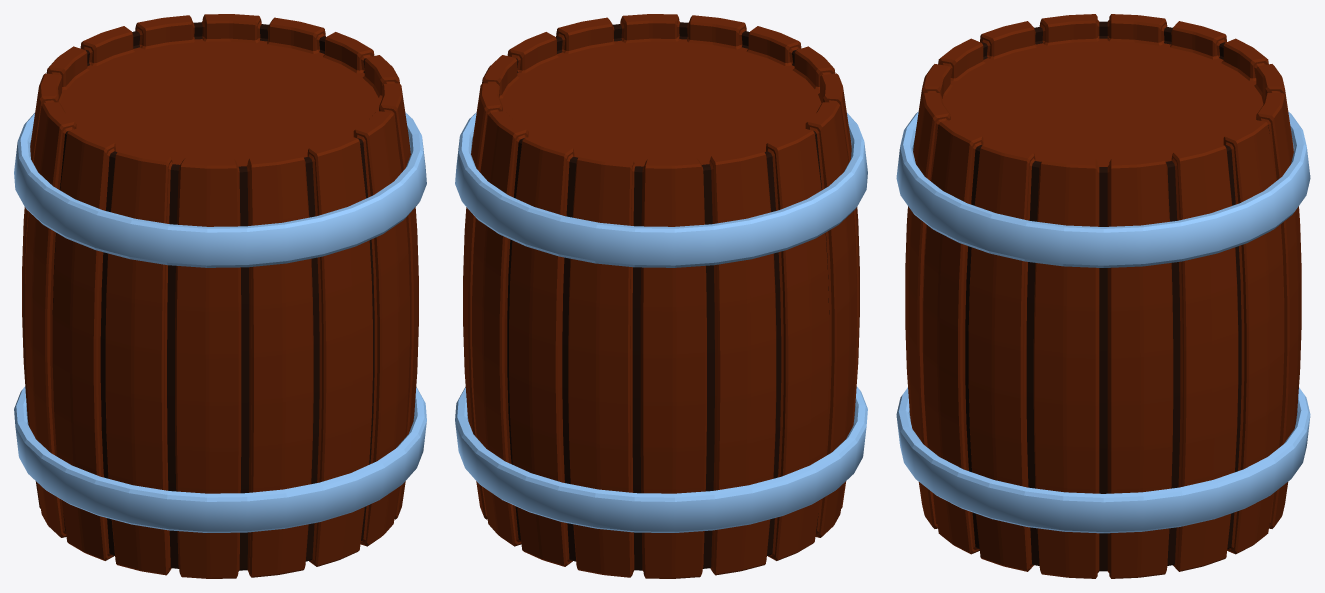
Rendered from barrel.fbx.
The picture shows the model from 3 angles, left to right: view 1: azimuth 30°, elevation 25°; view 2: azimuth 150°, elevation 25°; view 3: azimuth 270°, elevation 25°; orthographic projection.
Visible parts, largest first — view 1: barrel; view 2: barrel; view 3: barrel.
Part boxes in pixels (bbox=[...]): barrel: bbox=[14, 14, 426, 578]; barrel: bbox=[455, 14, 867, 578]; barrel: bbox=[896, 14, 1310, 578].
Size of the model in its own units: 256 by 282 by 256.
